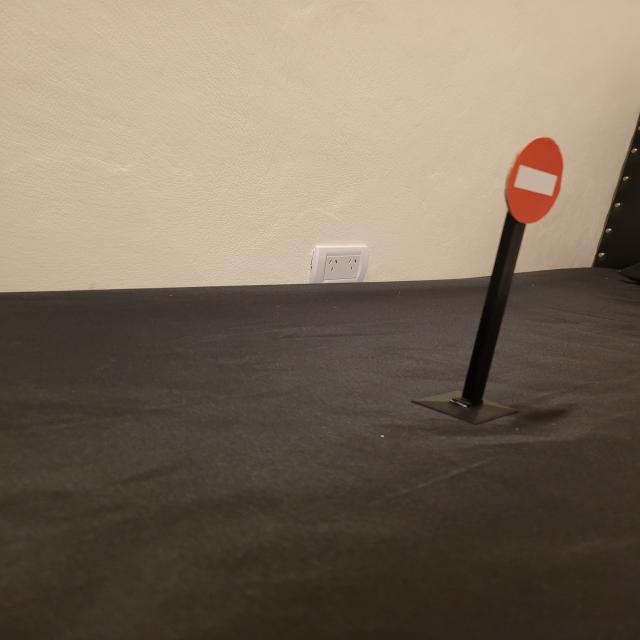no_entry: (503, 136, 565, 224)
